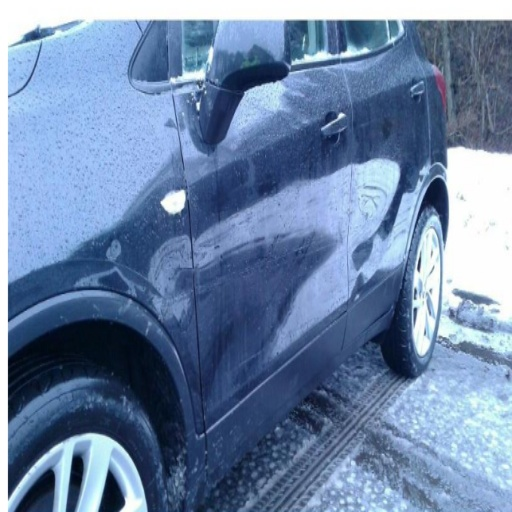dent: (201, 275, 311, 418)
scratch: (194, 240, 330, 296), (236, 339, 270, 368)
